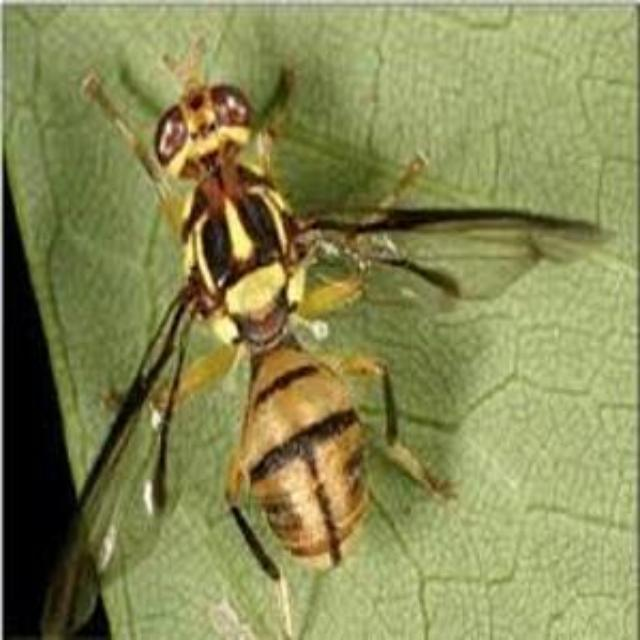melon fly: (14, 41, 610, 640)
